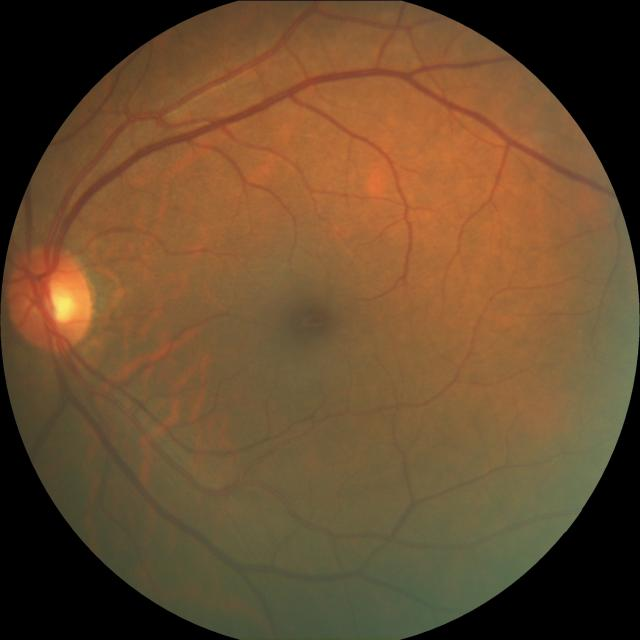OC: (30, 266, 79, 326)
OD: (0, 241, 92, 354)
